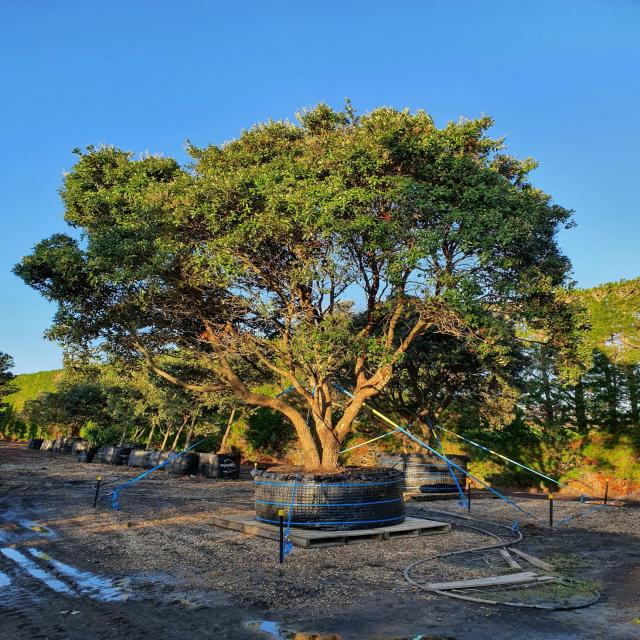Pohutukawa: (25, 98, 584, 475)
